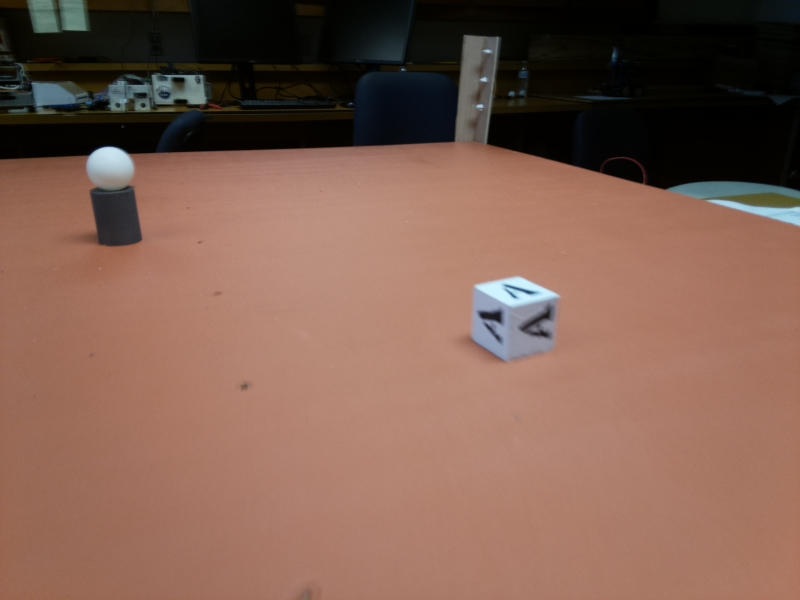blockA: (471, 277, 562, 366)
corner: (456, 34, 499, 141)
obstacle: (87, 143, 142, 251)
